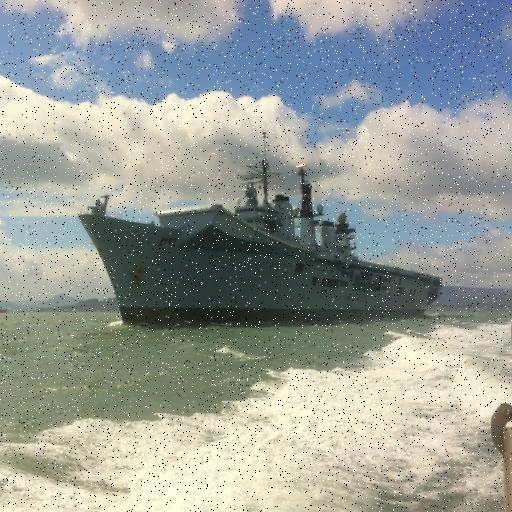Portanaves: (78, 121, 448, 332)
